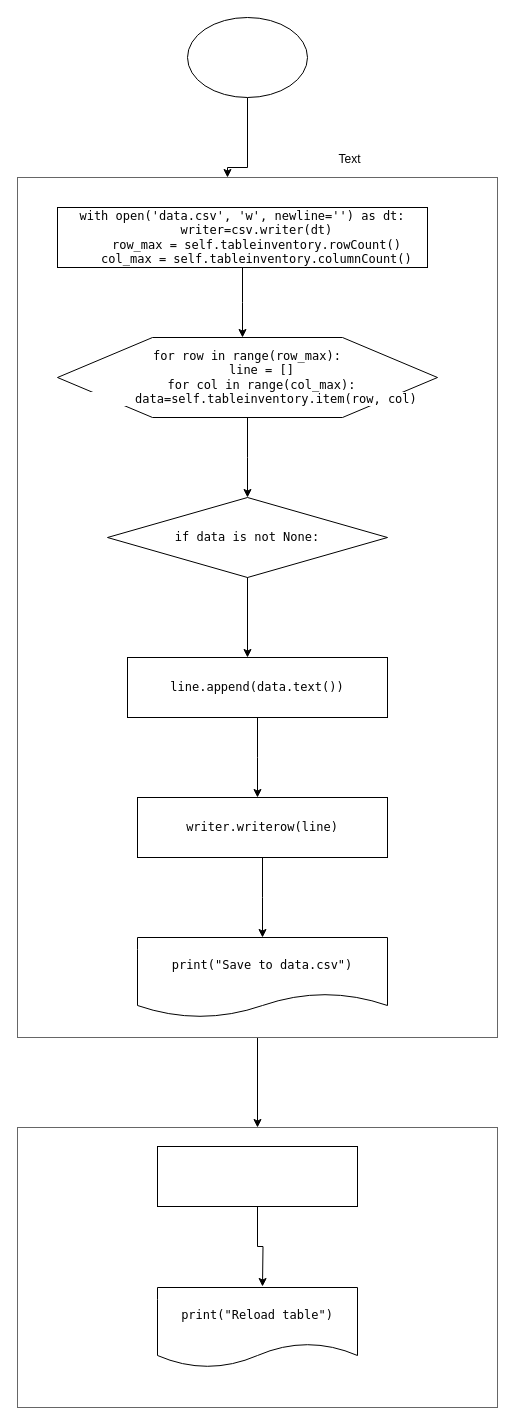
Some shapes in this 515 by 1425 pixel diagram are drawn without their labels. Each missing label, with the centre of its shape:
self.load_data(): (x=257, y=1176)
START: (x=247, y=57)
